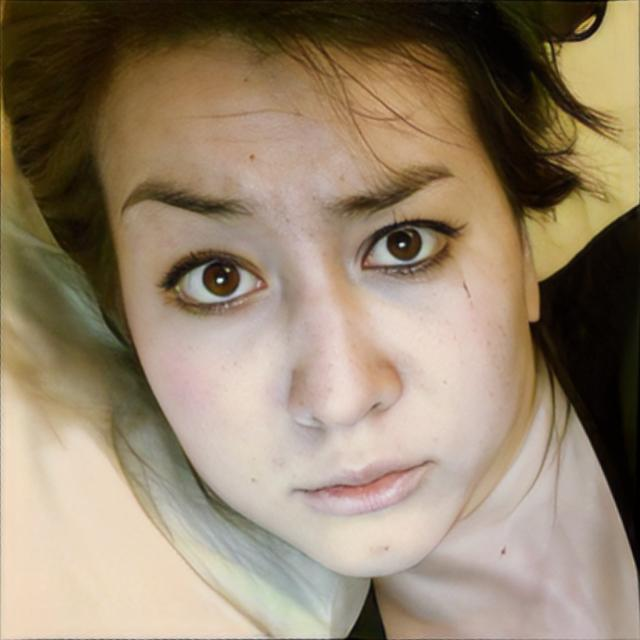sad: (90, 9, 528, 580)
